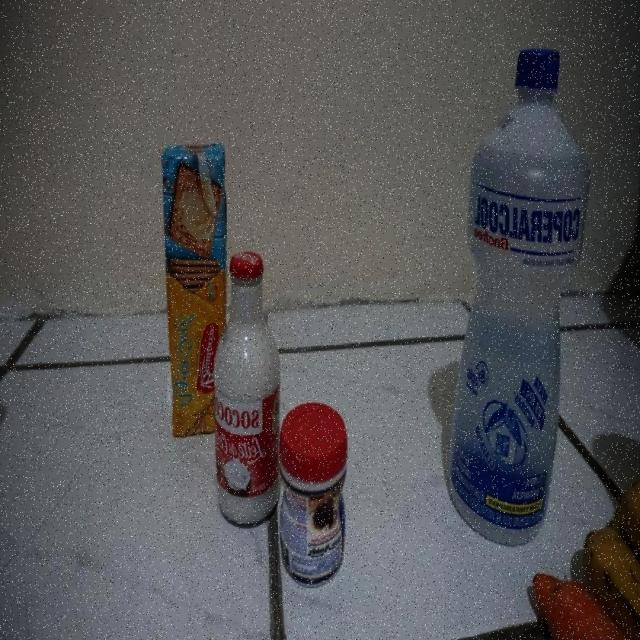AlcoholBottle: (444, 44, 589, 540)
Banana: (600, 478, 640, 624)
Carrot: (535, 565, 597, 640)
CoconutMilk: (213, 247, 276, 526)
Cracker: (162, 144, 212, 445)
Yeast: (281, 402, 355, 581)
